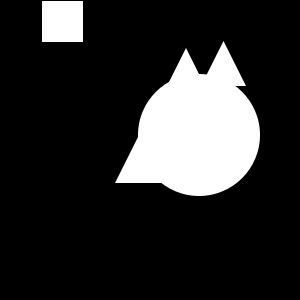circle: (42, 1, 83, 42)
rectangle: (138, 74, 260, 196)
triangle: (131, 48, 241, 158), (115, 99, 199, 183), (201, 41, 246, 86)
